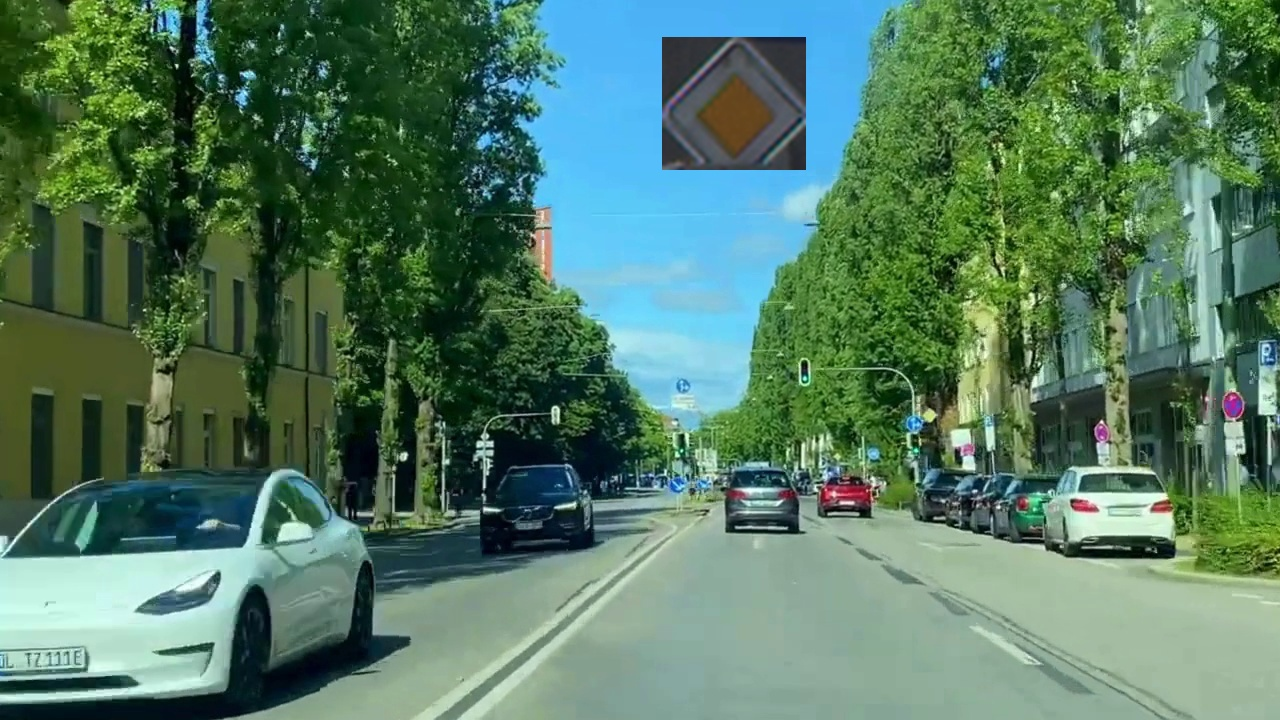Priority road: (662, 37, 806, 170)
